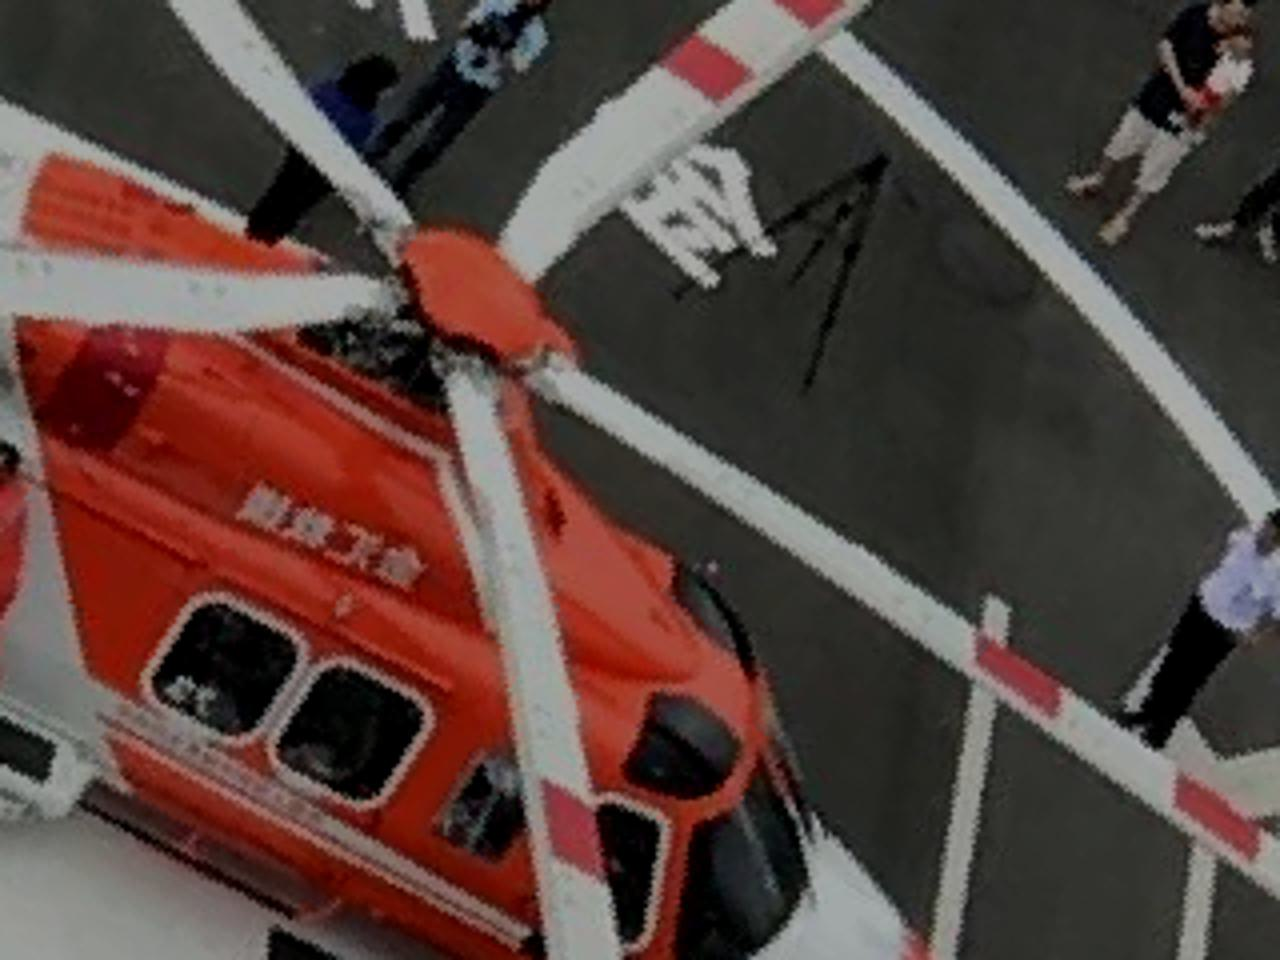Apron: (1, 1, 1279, 659)
